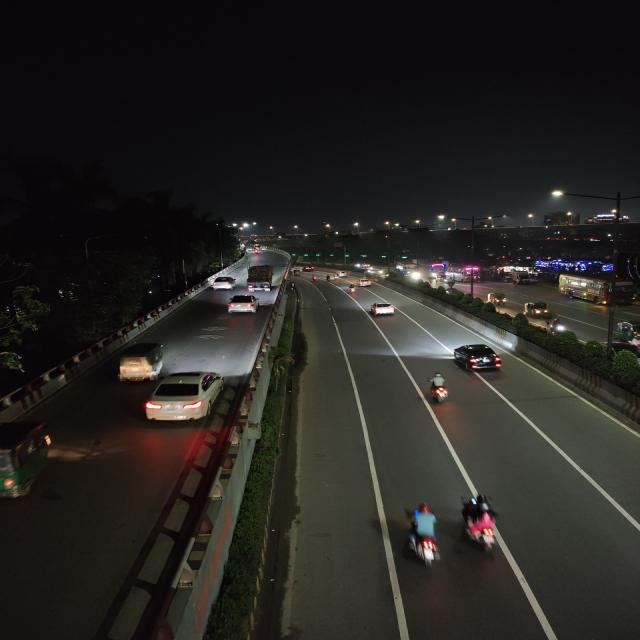bus: (558, 276, 629, 308), (448, 264, 480, 284), (425, 263, 445, 278), (400, 262, 420, 276)
car: (145, 369, 224, 424), (452, 341, 501, 376), (225, 294, 262, 317), (210, 274, 237, 293), (371, 299, 394, 318), (355, 278, 374, 289), (337, 270, 348, 280), (304, 266, 314, 273)
cng: (115, 342, 164, 384), (524, 300, 548, 318), (488, 291, 508, 308), (292, 269, 302, 277)
motorcycle: (424, 372, 454, 407), (346, 284, 358, 296), (324, 274, 333, 286), (310, 273, 318, 283)
pickup_van: (247, 265, 273, 294)
truck: (513, 270, 531, 285)
